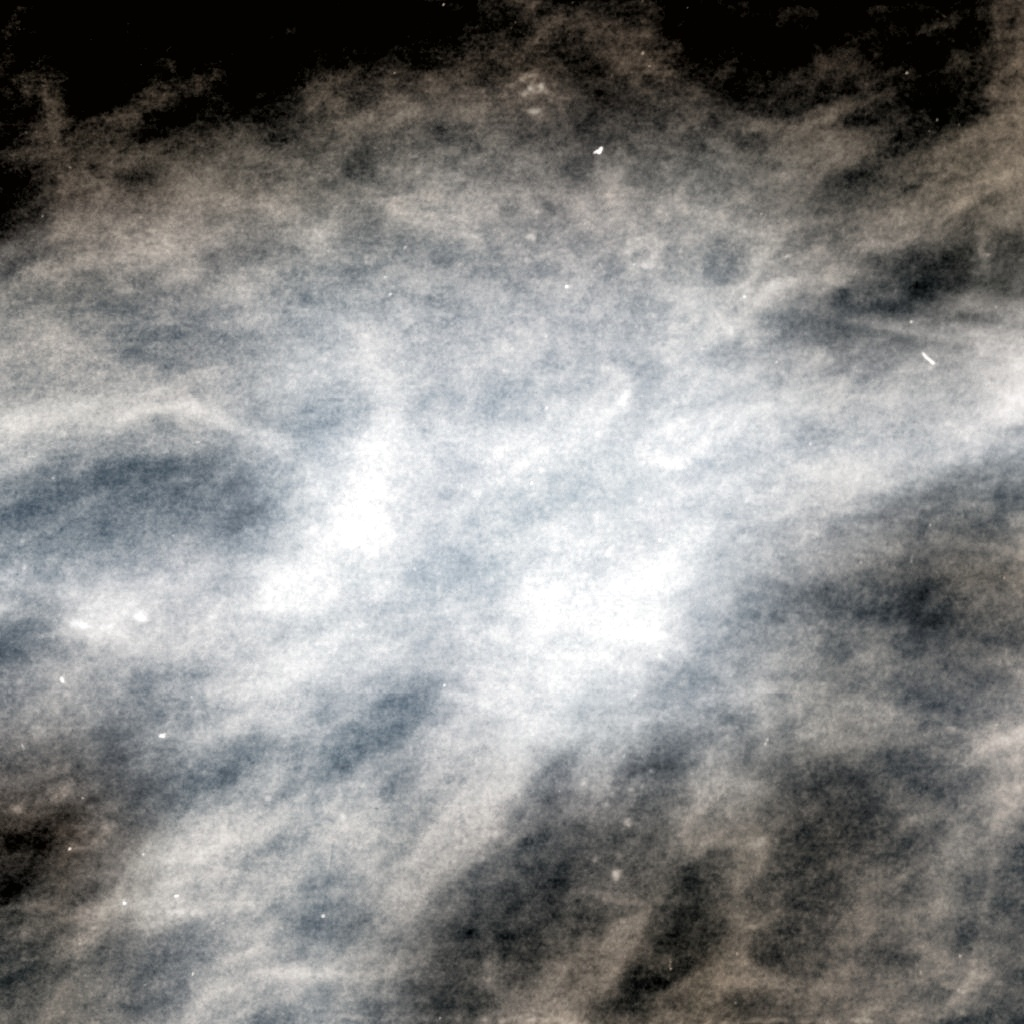tumor: (196, 312, 828, 712)
